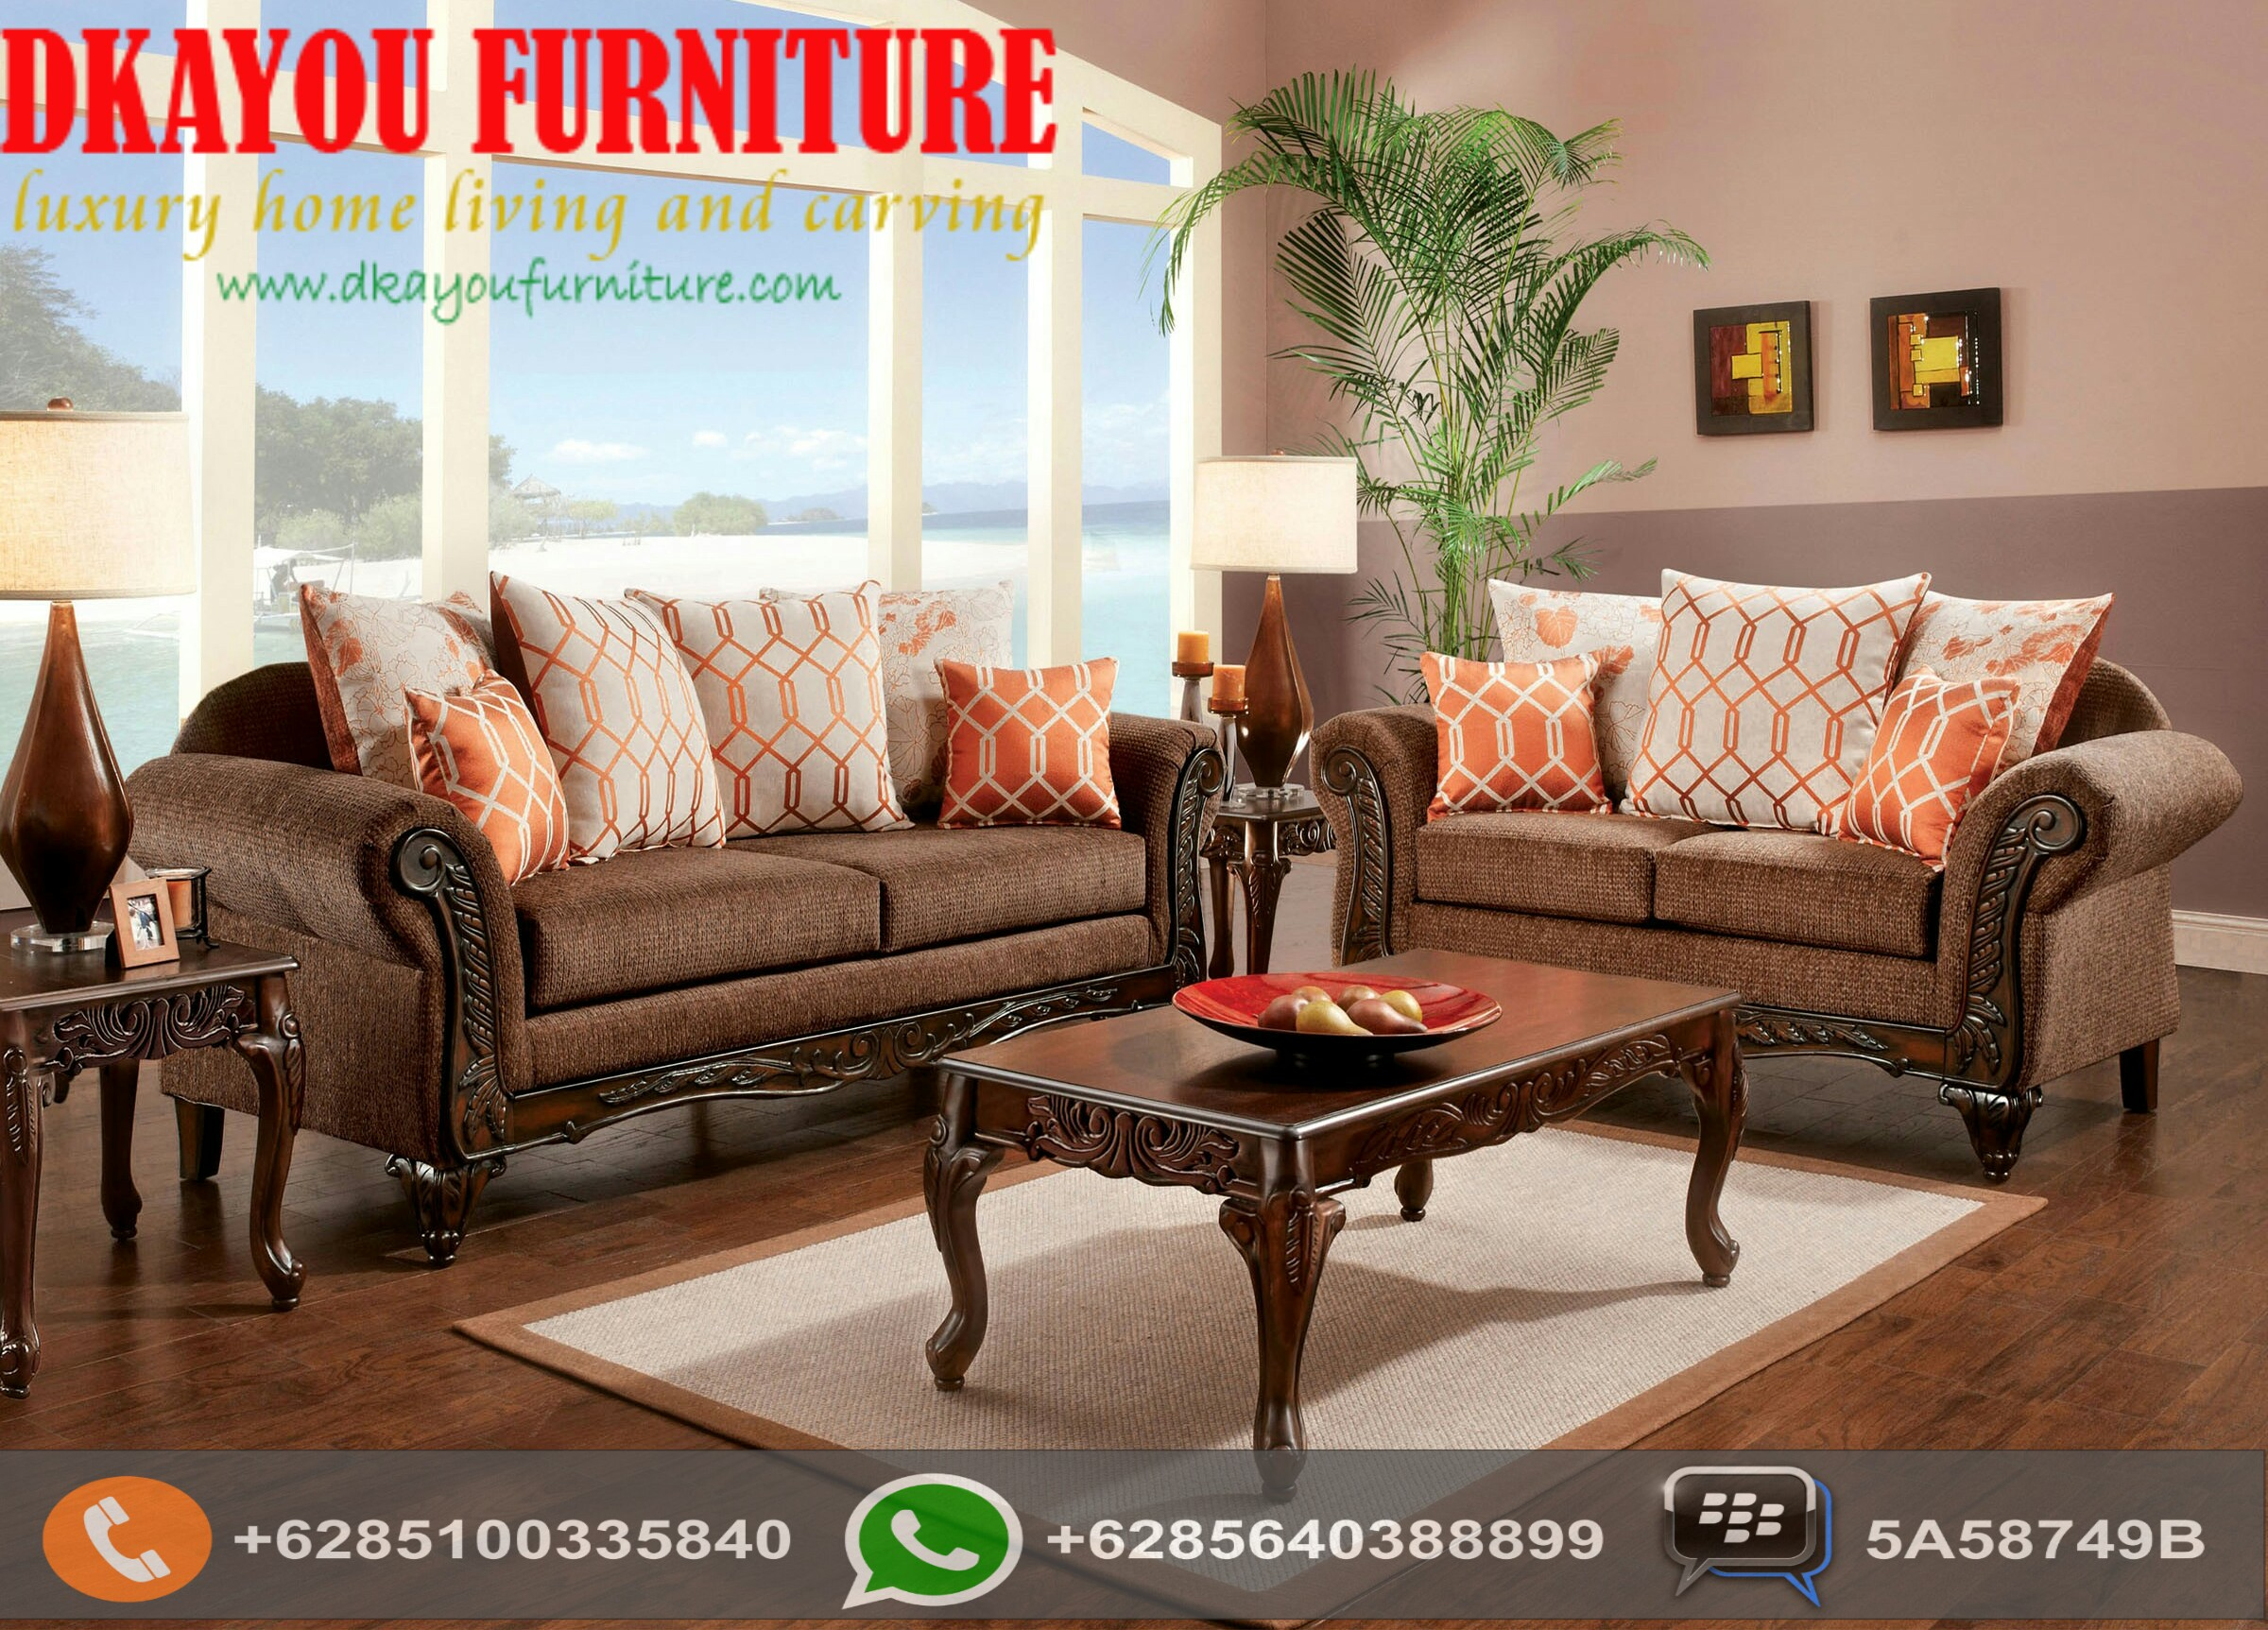bantal: (490, 574, 727, 866), (643, 586, 909, 833), (1632, 576, 1856, 850), (1881, 595, 2111, 859), (926, 648, 1132, 836), (405, 669, 571, 877), (1421, 650, 1595, 819)
lampu: (2, 382, 183, 963), (1204, 444, 1368, 801)
lukisan: (1877, 292, 2006, 428), (1692, 299, 1821, 433)
meja: (921, 947, 1749, 1429), (2, 877, 324, 1340)
sova: (150, 586, 1210, 1230), (1326, 598, 2199, 1044)
tanaman: (1208, 76, 1627, 586)
